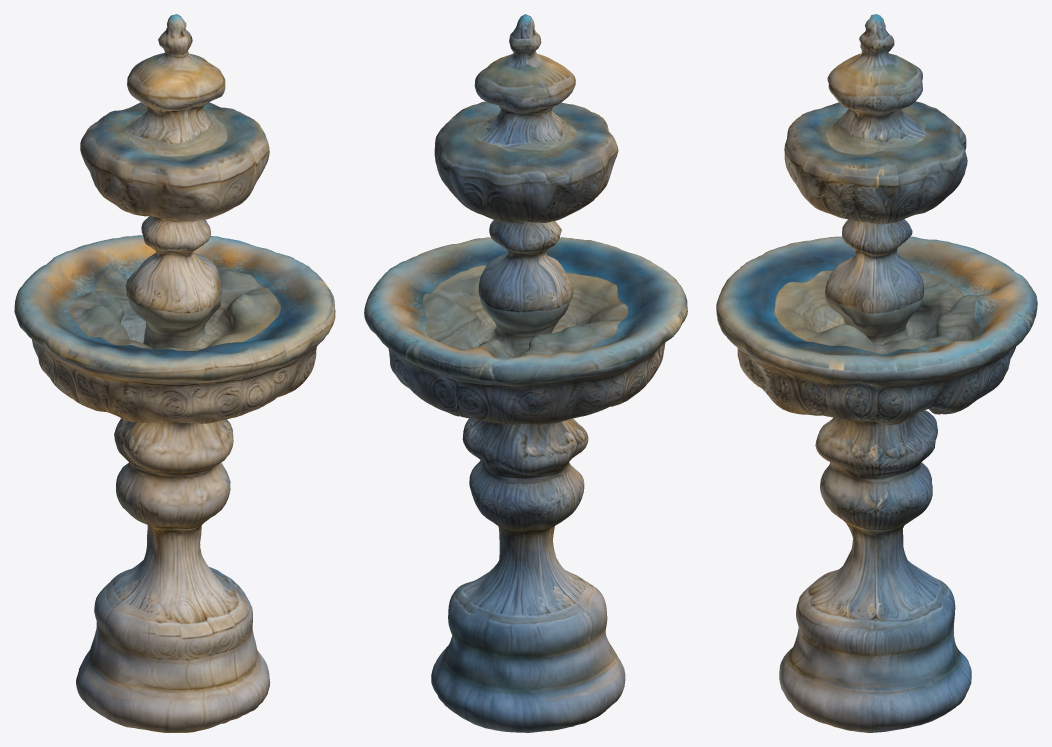
File: a_beautiful_calm_waterly_garden_fountain_0714051901_refine.glb
3 renders of one model, left to right at view 1: azimuth 30°, elevation 25°; view 2: azimuth 150°, elevation 25°; view 3: azimuth 270°, elevation 25°, orthographic.
Size of the model in its own units: 0.4924 by 1.2 by 0.4972.
1 material, 1 textured.
